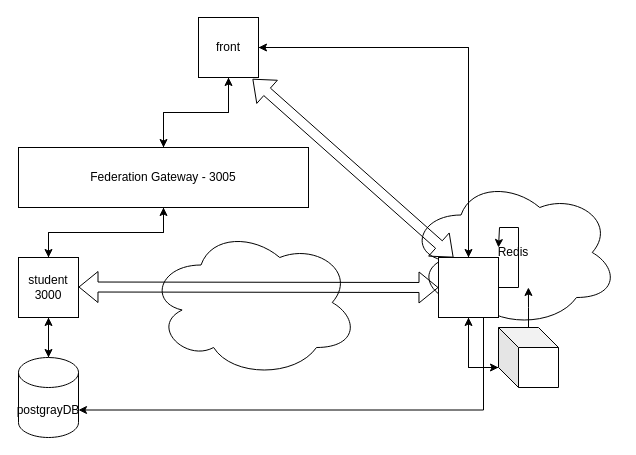
The diagram is 636 pixels wide and 455 high, and some of its shapes have lost their labels. Each missing label, with the centre of its shape:
file handiling: (x=468, y=287)
files: (x=528, y=357)
Kafca: (x=253, y=302)
